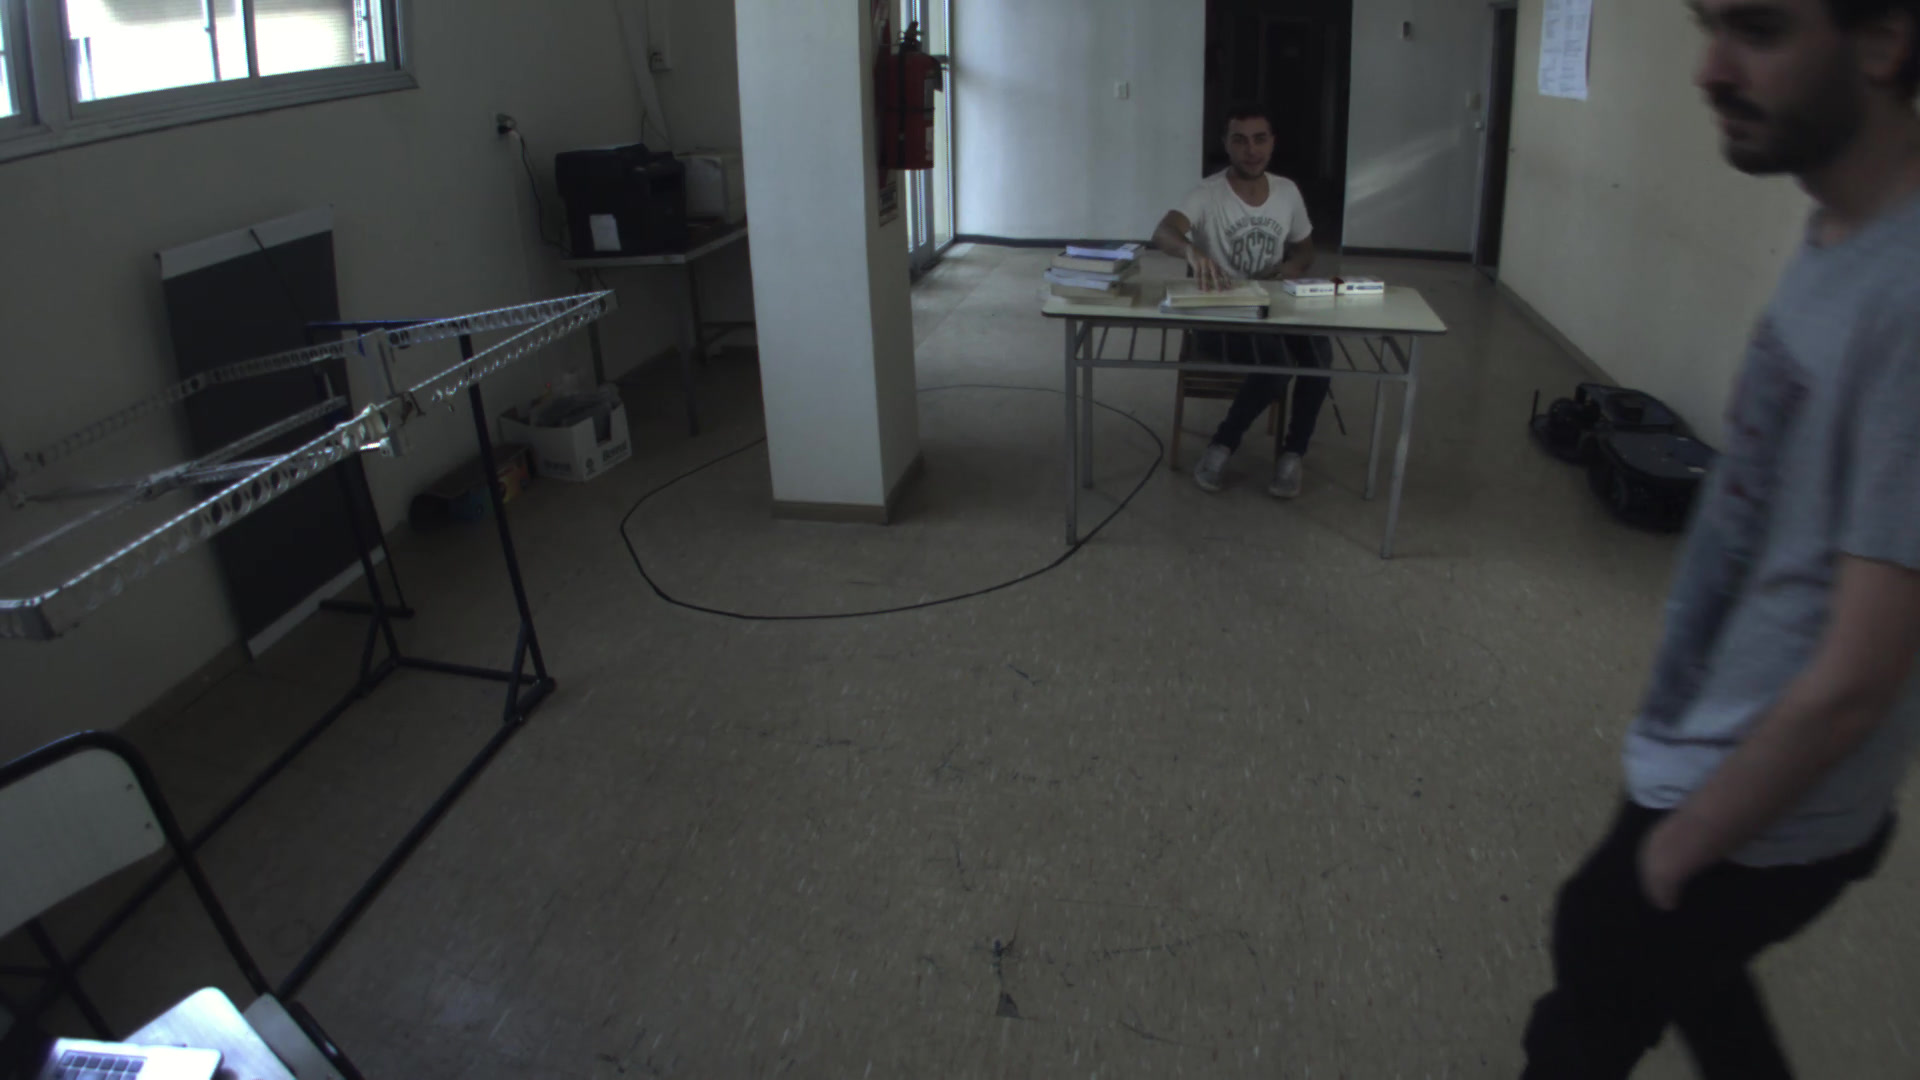hand: (1175, 243, 1238, 301)
